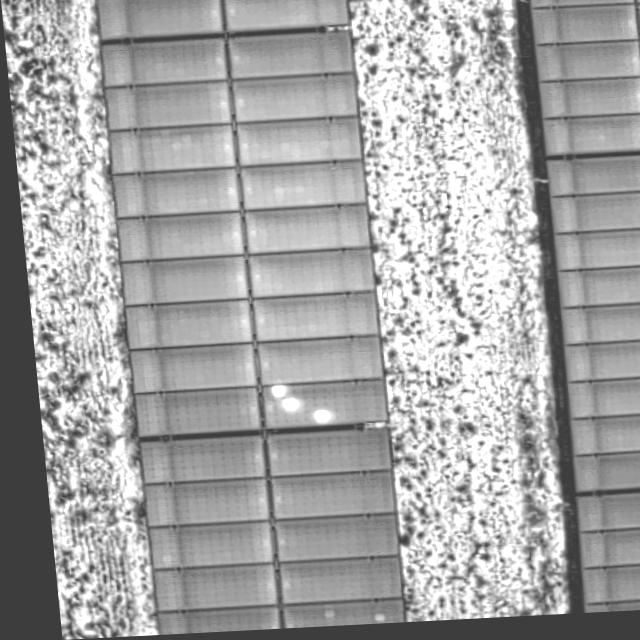Hotspot: (98, 0, 405, 640), (533, 0, 640, 618)
